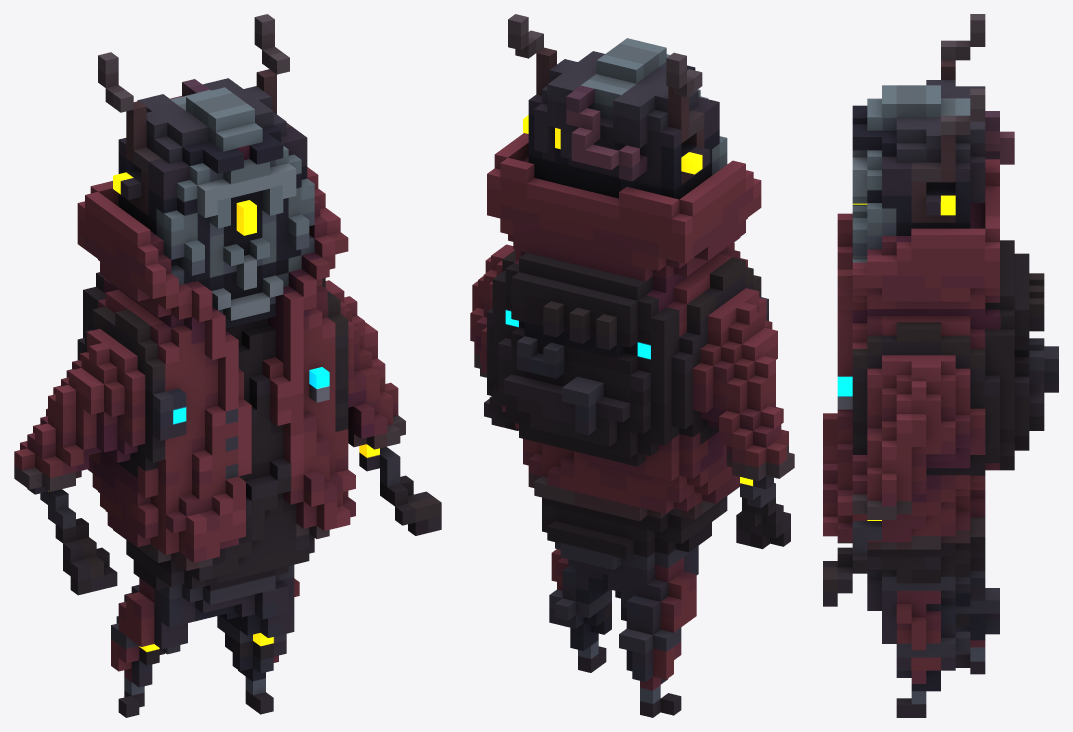
The model's file is cyberbot.glb.
The picture shows the model from 3 angles, left to right: view 1: azimuth 30°, elevation 25°; view 2: azimuth 150°, elevation 25°; view 3: azimuth 270°, elevation 25°; orthographic projection. The views are drawn at different scales.
Visible parts, largest first — view 1: ObjObject:001.001; view 2: ObjObject:001.001; view 3: ObjObject:001.001.
Part boxes in pixels (bbox=[...]): ObjObject:001.001: bbox=[14, 14, 441, 717]; ObjObject:001.001: bbox=[470, 14, 794, 717]; ObjObject:001.001: bbox=[823, 14, 1058, 717].
Size of the model in its own units: 2.7 by 4.8 by 1.6.
Materials: 3 (3 with a texture image).
